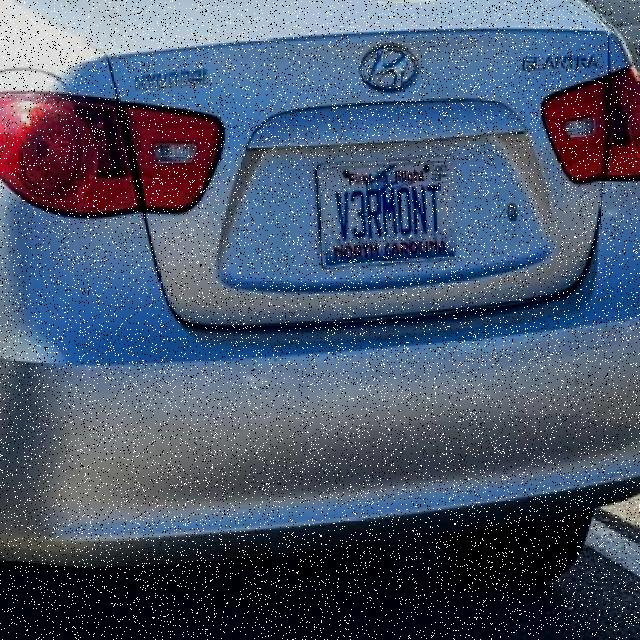licenseplate: (316, 155, 460, 269)
